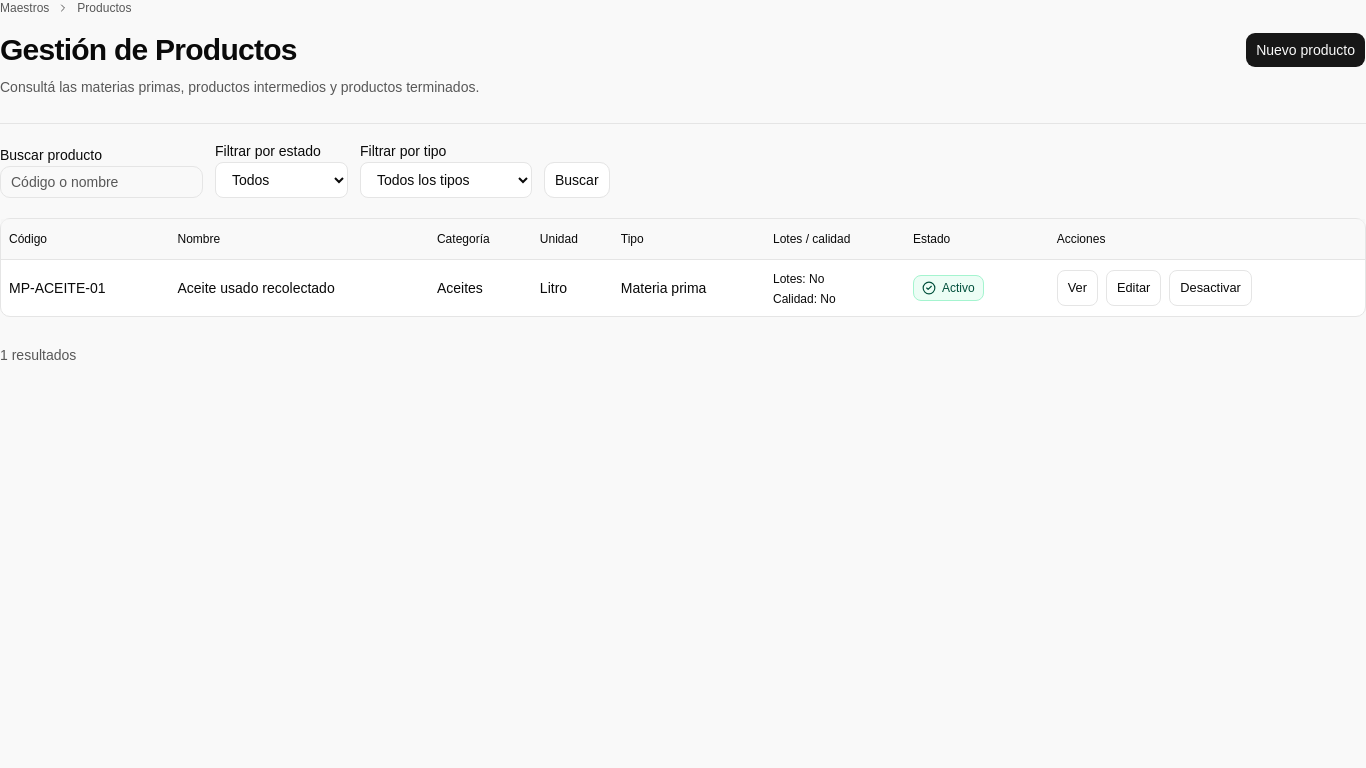
Scenario: Productos: interfaz de Inventario › ADMIN crea y actualiza el listado
Expected: the table named "Productos" is shown, [1,219,1365,316]
Click the button "Nuevo producto". click: {"x": 1306, "y": 50}
box: [1245,32,1365,68]
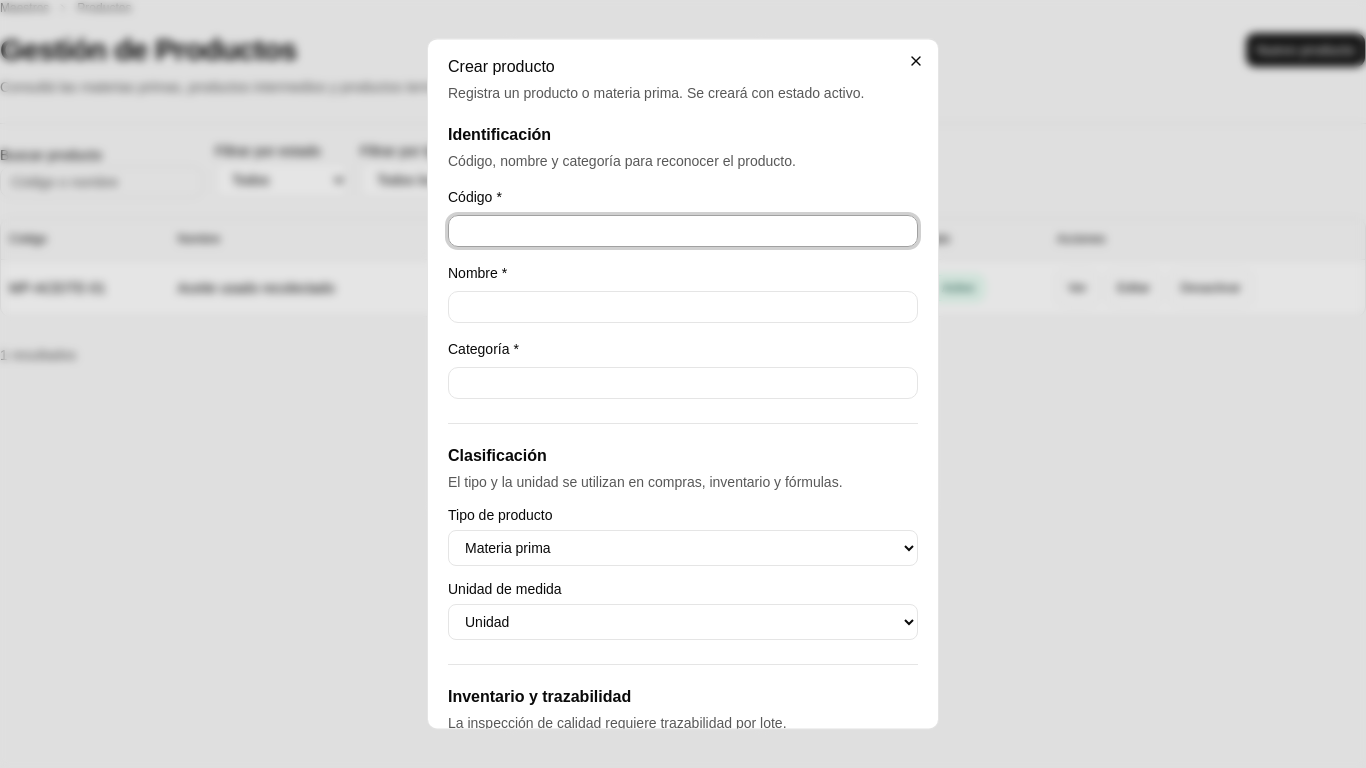
Type "PT-JABON-500G" into the field labelled "Código". click: {"x": 683, "y": 231}
box: [448,215,918,247]
Type "Jabón ecológico 500 g" into the field labelled "Nombre". click: {"x": 683, "y": 307}
box: [448,291,918,323]
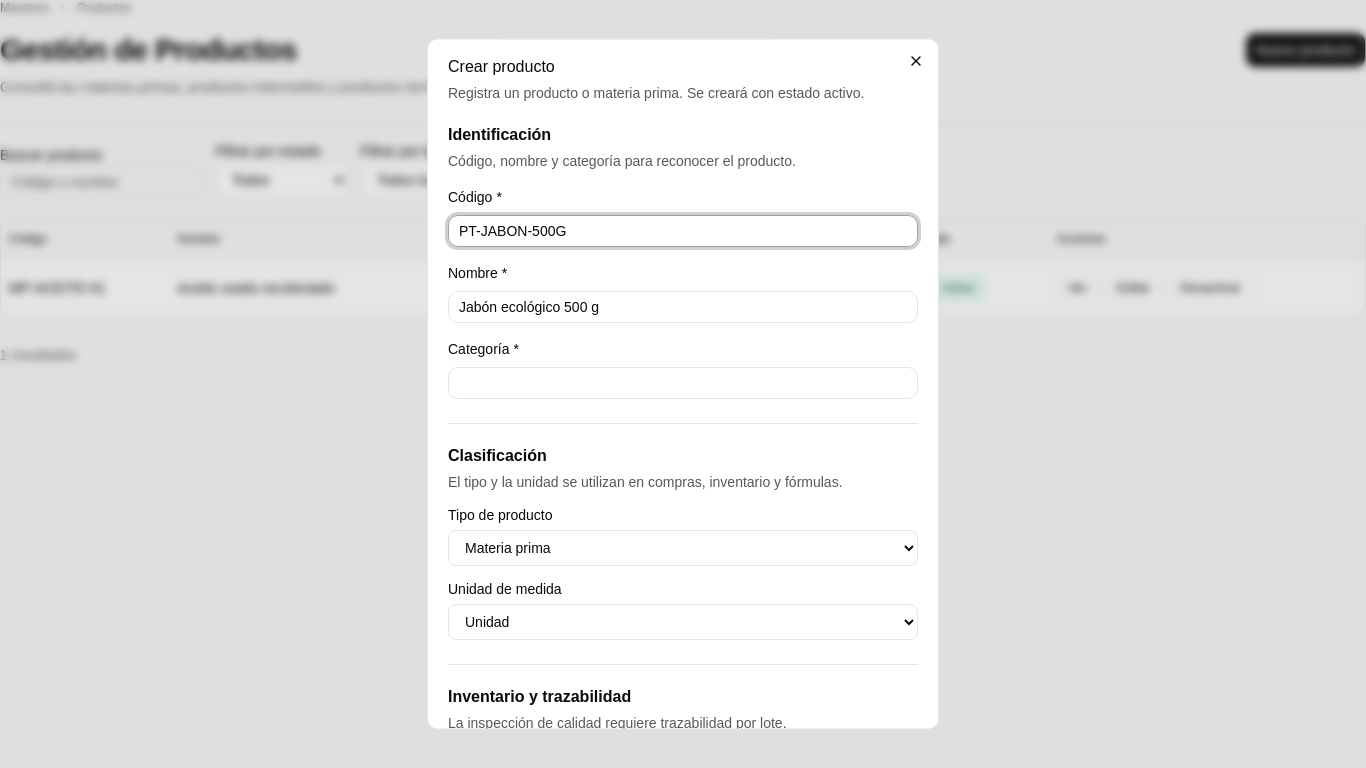
Type "Jabones" into the field labelled "Categoría". click: {"x": 683, "y": 383}
box: [448,367,918,399]
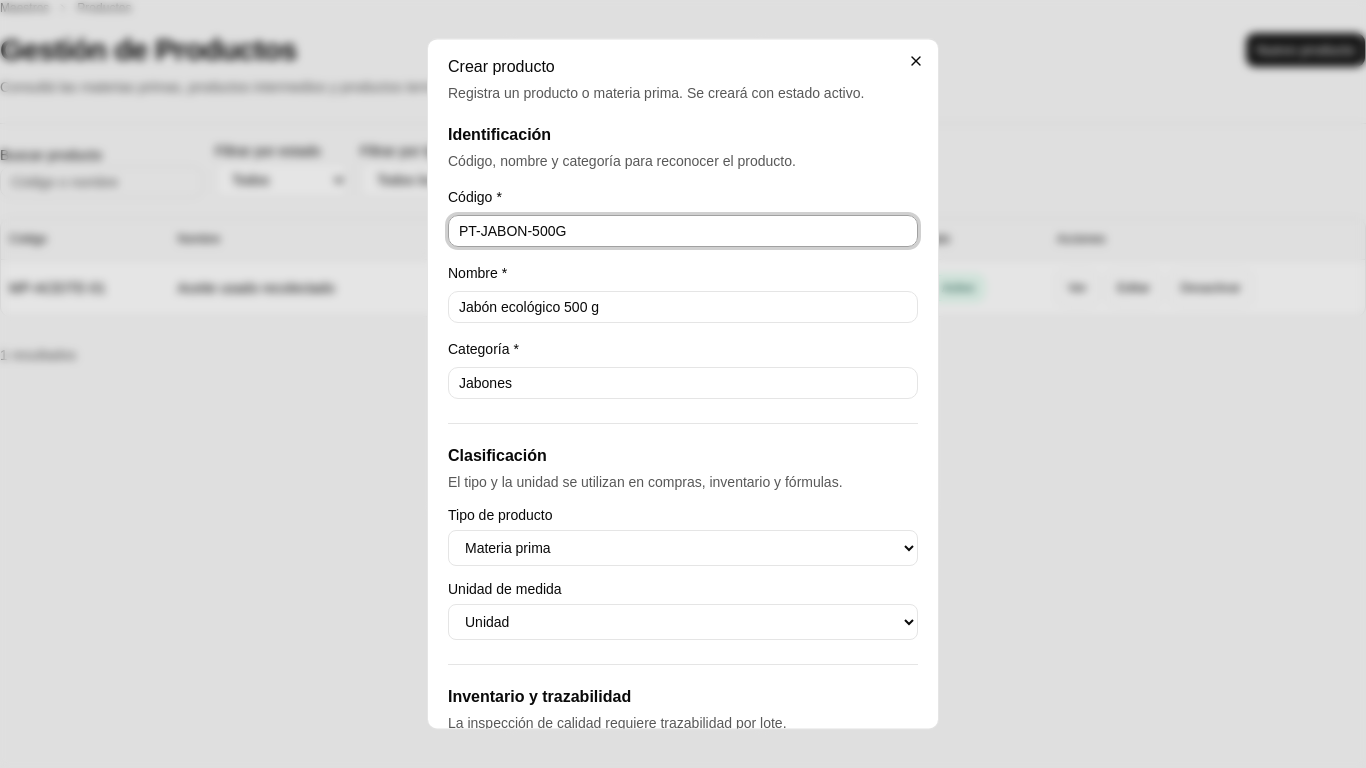
Select "Producto terminado" in the dropdown labelled "Tipo de producto". click: {"x": 683, "y": 548}
box: [448,530,918,566]
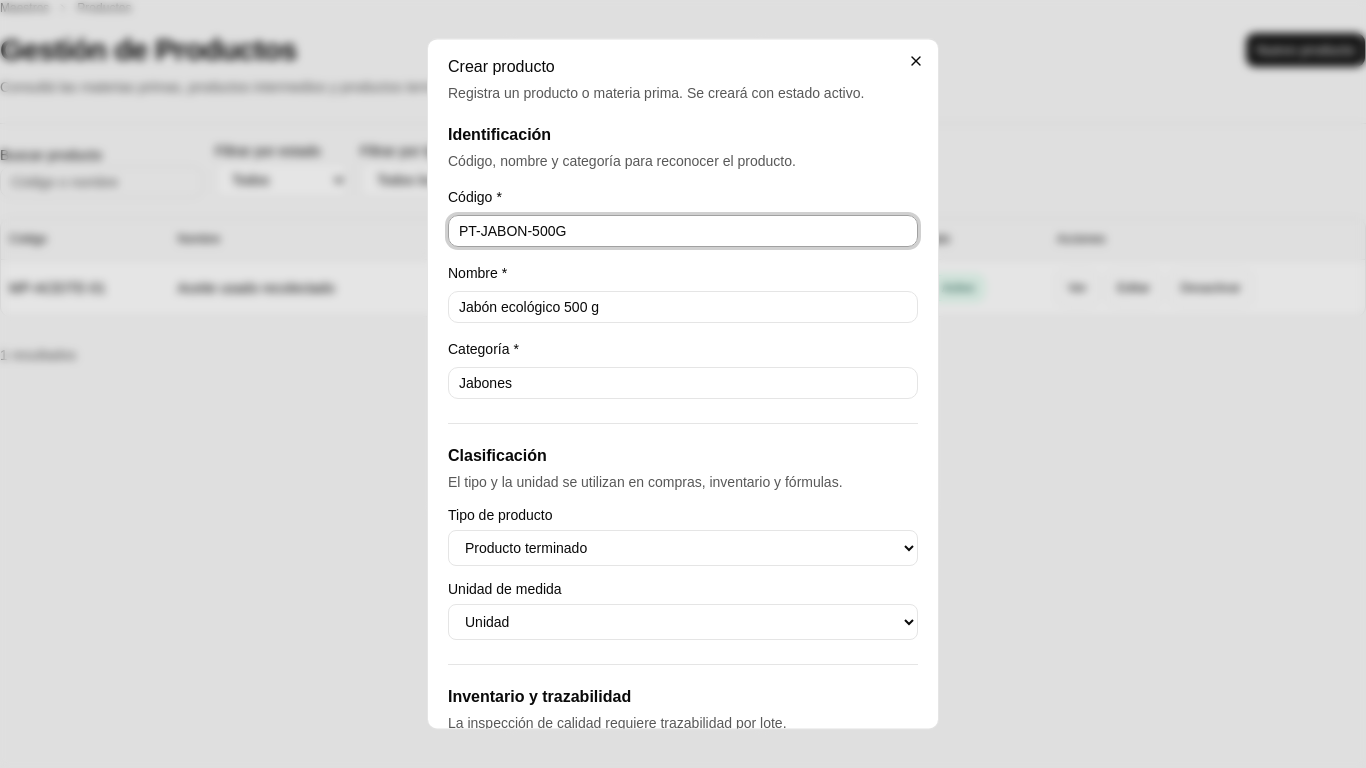
Select "Unidad" in the dropdown labelled "Unidad de medida". click: {"x": 683, "y": 622}
box: [448,604,918,640]
(page scrolled)
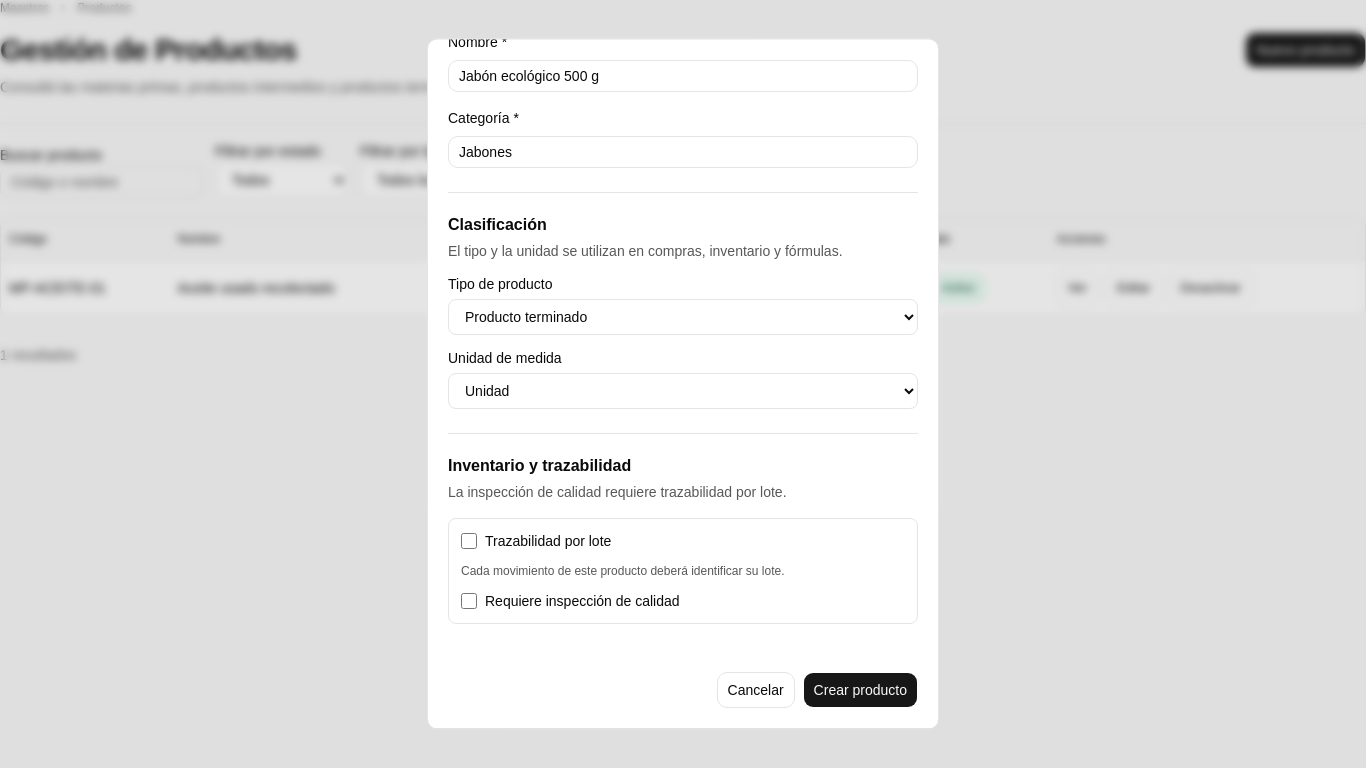
Click the button "Crear producto". click: {"x": 860, "y": 690}
box: [803,672,918,708]
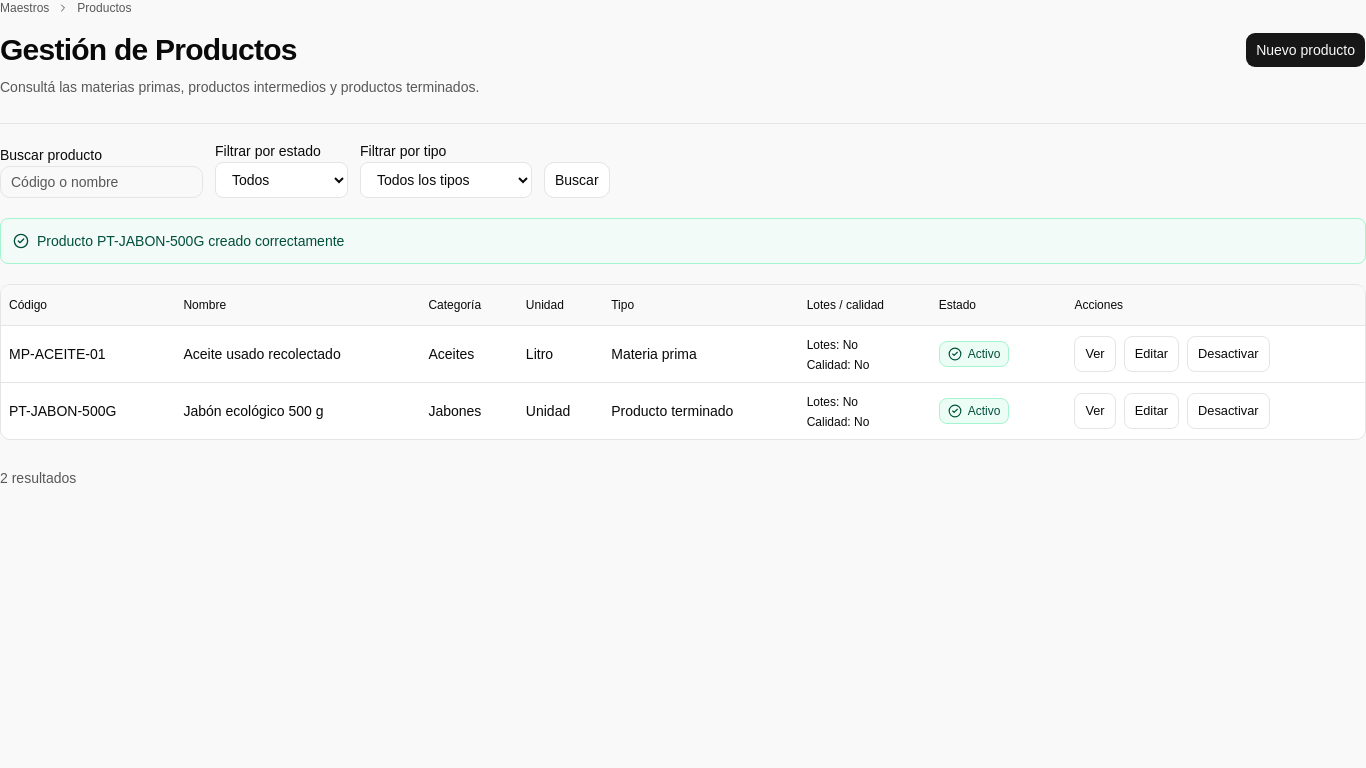
Expected: the text "Producto PT-JABON-500G creado correctamente" is shown, [37,231,344,251]
Expected: the dialog is gone
Expected: the text "Jabón ecológico 500 g" is shown, [176,382,420,439]
